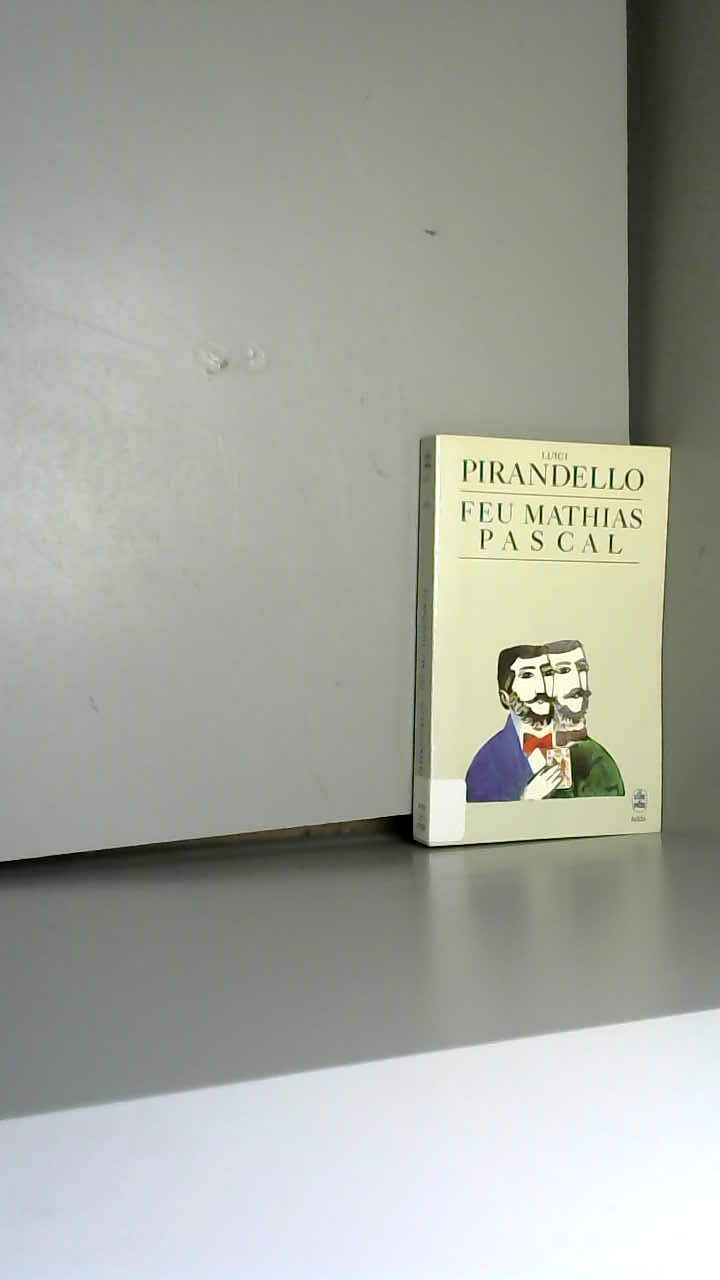book: (390, 410, 720, 876)
